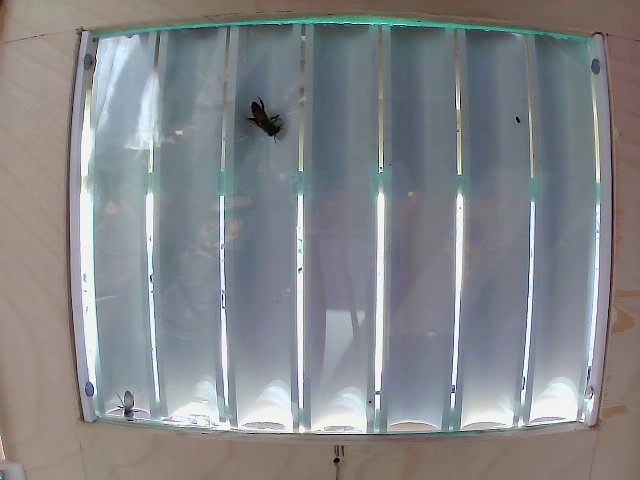bee: (245, 89, 279, 148)
